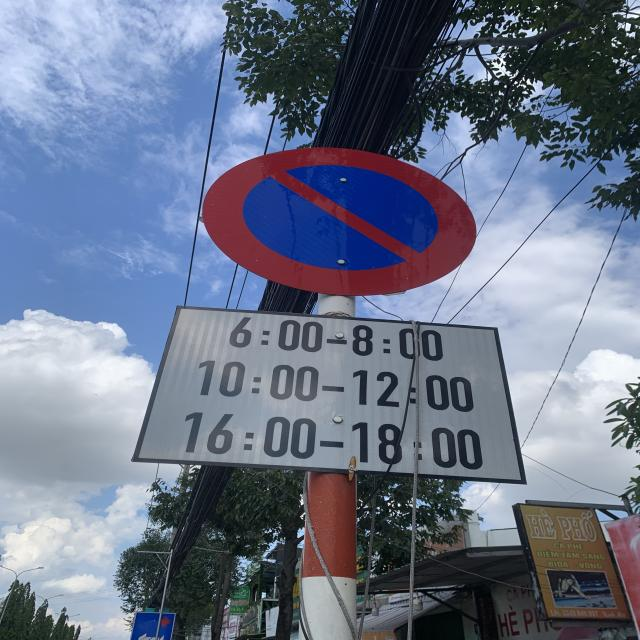Cam_Dau_Xe: (204, 144, 478, 298)
